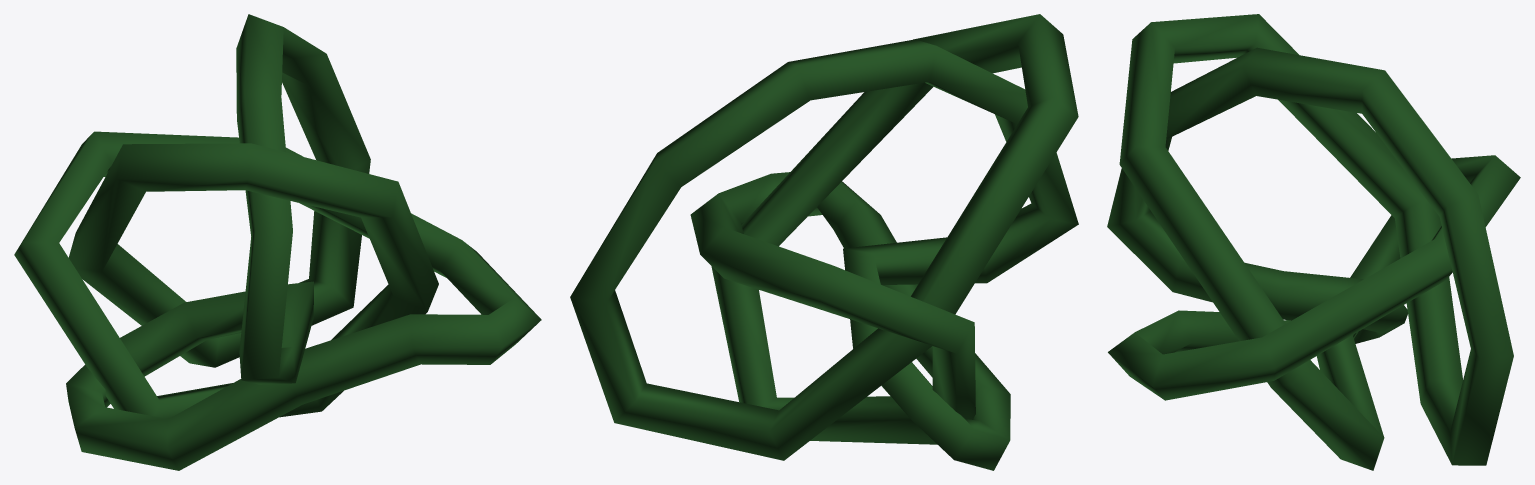
The model's file is vines_lowpoly.fbx.
3 views of the same model, side by side, from view 1: azimuth 30°, elevation 25°; view 2: azimuth 150°, elevation 25°; view 3: azimuth 270°, elevation 25° (orthographic). The views are drawn at different scales.
Visible parts, largest first — view 1: Vines; view 2: Vines; view 3: Vines.
Boxes of the visible parts, bbox=[...] form: Vines: bbox=[14, 14, 541, 470]; Vines: bbox=[570, 14, 1078, 470]; Vines: bbox=[1107, 14, 1520, 470].
Size of the model in its own units: 99.55 by 99.51 by 99.9.
